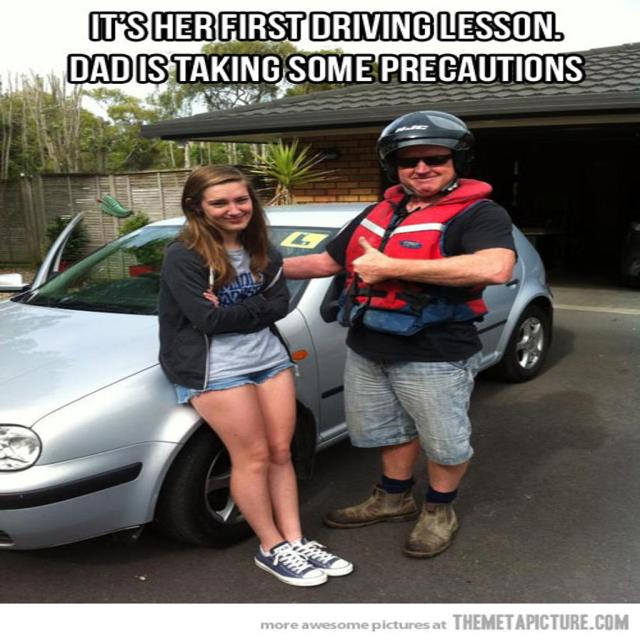Face: (379, 139, 477, 191), (202, 175, 276, 240)
